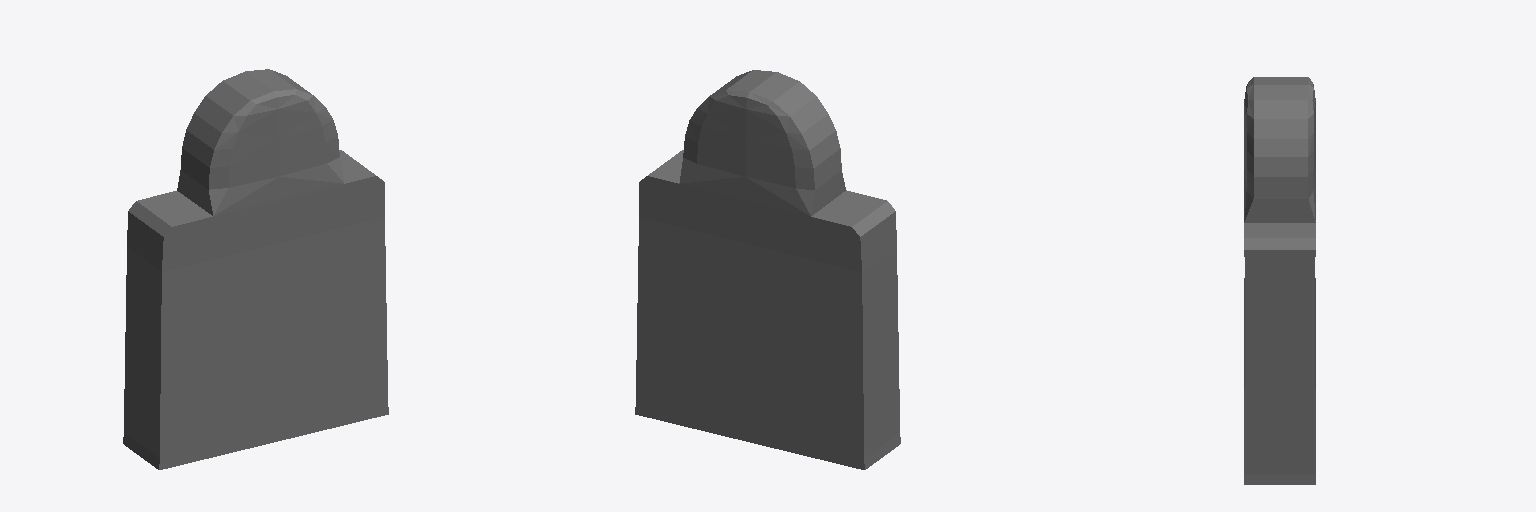
Rendered from Tomb4.obj.
3 renders of one model, left to right at view 1: azimuth 30°, elevation 25°; view 2: azimuth 150°, elevation 25°; view 3: azimuth 270°, elevation 25°, orthographic.
Parts seen in each view (by area): view 1: SmallTombstone2; view 2: SmallTombstone2; view 3: SmallTombstone2.
Part boxes in pixels (x1,y1,x2,y2): SmallTombstone2: (123, 69, 388, 469); SmallTombstone2: (635, 70, 900, 469); SmallTombstone2: (1244, 77, 1315, 484).
Bounding box in the file's own units: 31.76 × 45.77 × 8.64.